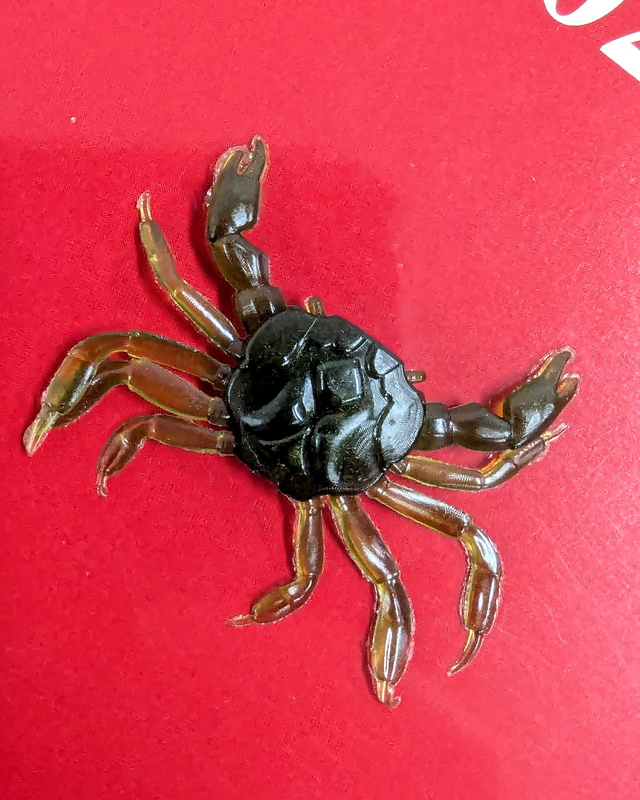crab2: (21, 134, 581, 712)
